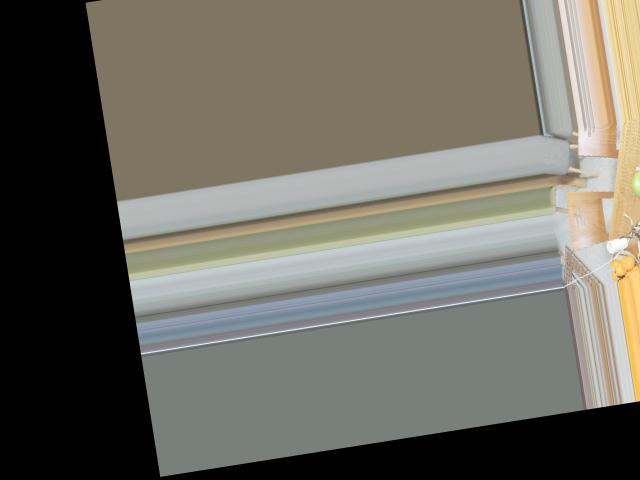apple: (626, 165, 640, 206)
